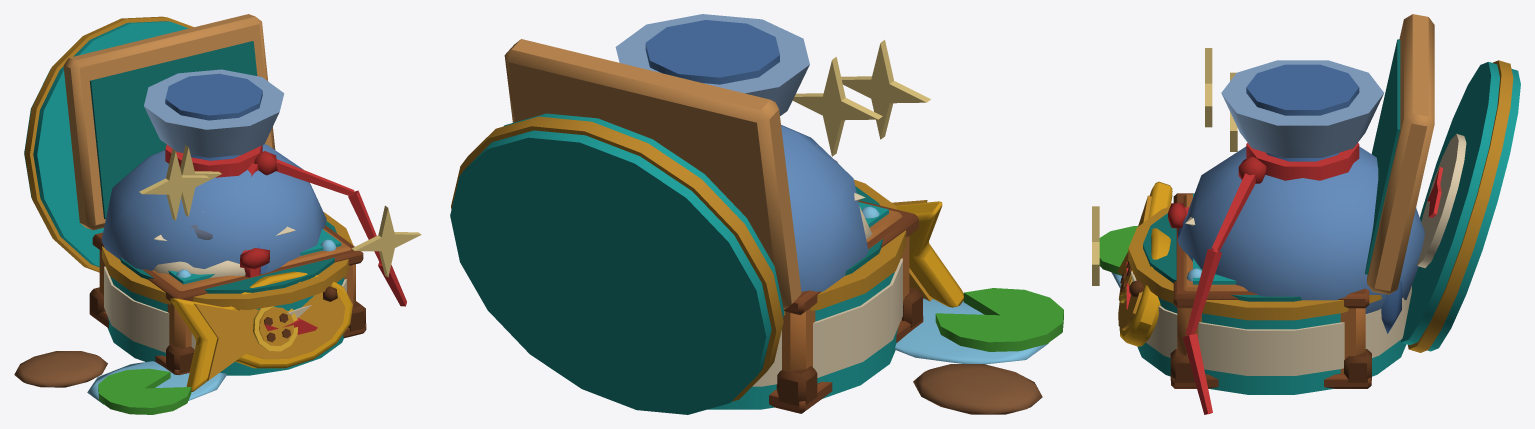
Rendered from discovery-props.glb.
The picture shows the model from 3 angles, left to right: view 1: azimuth 30°, elevation 25°; view 2: azimuth 150°, elevation 25°; view 3: azimuth 270°, elevation 25°; orthographic projection. The views are drawn at different scales.
Visible parts, largest first — view 1: lucky_button, lucky_box, lucky_tin; view 2: lucky_tin, lucky_box, lucky_button; view 3: lucky_button, lucky_tin, lucky_box.
Boxes of the visible parts, <box> form: lucky_button: <box>101,69,421,391</box>; lucky_box: <box>14,14,366,387</box>; lucky_tin: <box>24,16,353,414</box>; lucky_tin: <box>450,40,1063,414</box>; lucky_box: <box>504,39,1042,414</box>; lucky_button: <box>615,14,963,307</box>; lucky_button: <box>1092,60,1424,414</box>; lucky_tin: <box>1099,48,1520,394</box>; lucky_box: <box>1168,14,1434,388</box>.
Size of the model in its own units: 0.2286 by 0.1477 by 0.2051.
